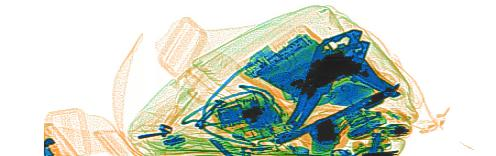battery: (328, 81, 374, 109)
